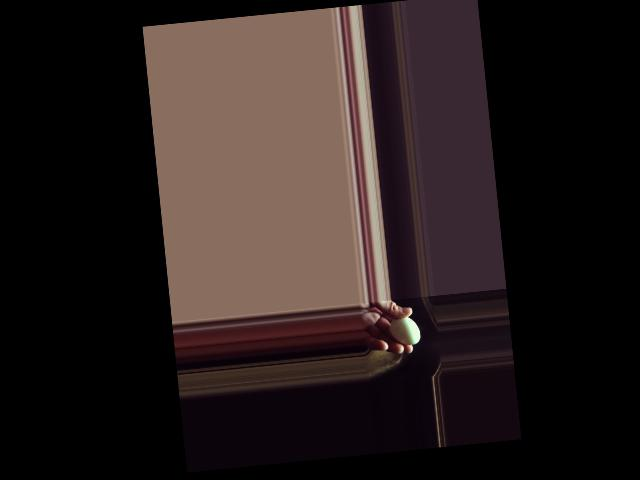egg: (388, 315, 420, 345)
